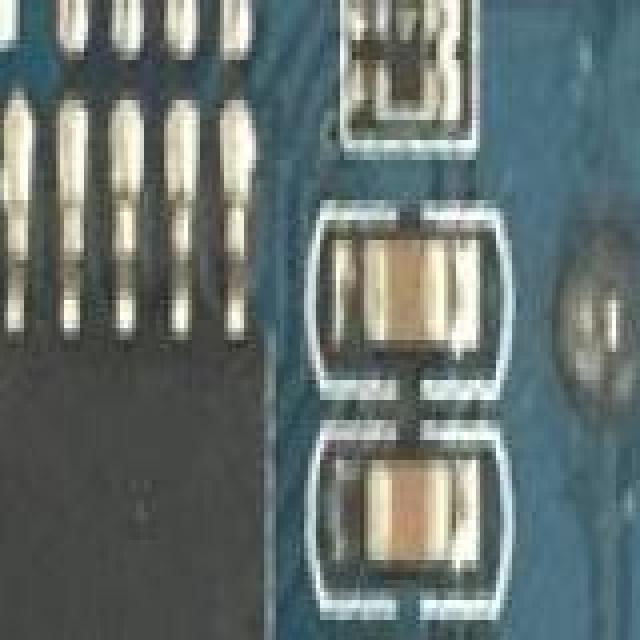IC: (0, 180, 280, 640), (56, 0, 264, 8)
capacitor: (356, 244, 466, 358), (368, 460, 472, 580)
resistor: (368, 0, 448, 100)
